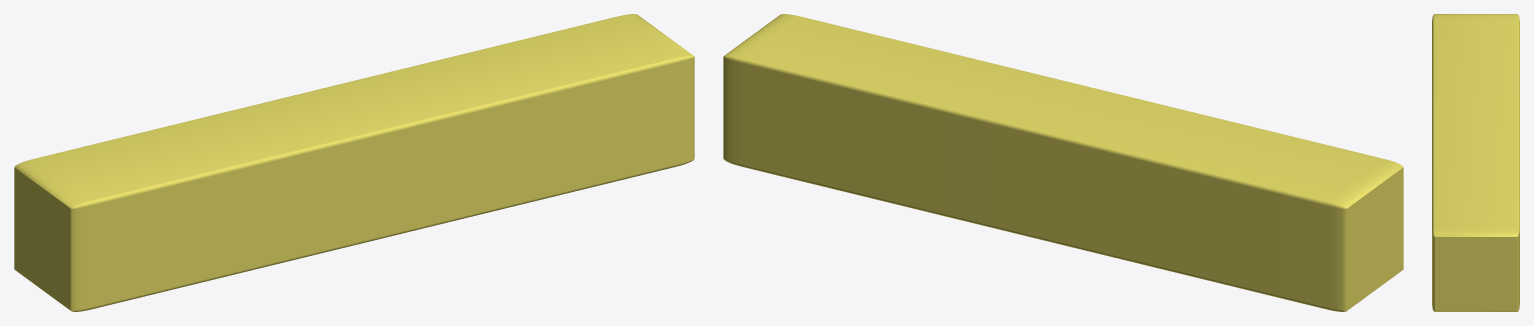
The model's file is wall_final.glb.
3 views of the same model, side by side, from view 1: azimuth 30°, elevation 25°; view 2: azimuth 150°, elevation 25°; view 3: azimuth 270°, elevation 25° (orthographic). The views are drawn at different scales.
Visible parts, largest first — view 1: Wall_Final; view 2: Wall_Final; view 3: Wall_Final.
Part boxes in pixels (<box>): Wall_Final: <box>14,14,694,311</box>; Wall_Final: <box>723,14,1403,311</box>; Wall_Final: <box>1432,14,1519,311</box>.
Bounding box in the file's own units: 12 × 2 × 2.
